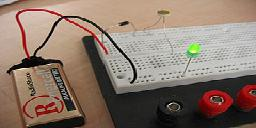LED: (184, 42, 203, 59)
